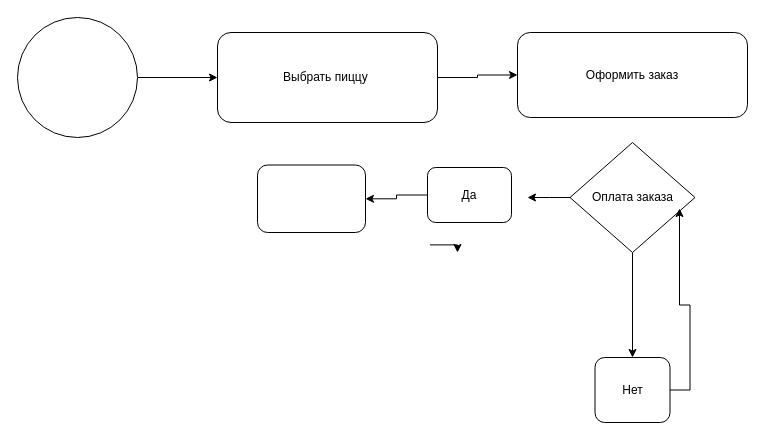
Image size: 765x440. Some labels were removed from this diagram. Here are the shapes that lost their labels. From the top down, the centre of each, then its label:
At (77,77): "клиент зашел на сайт".
At (311,198): "Передайте заказ на кухню".
